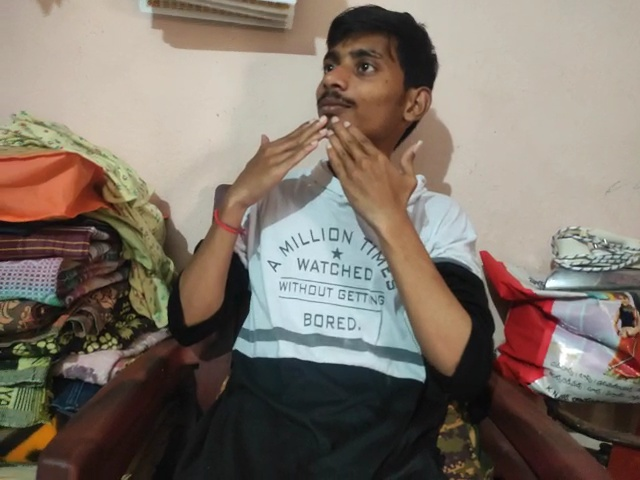thankyou: (222, 113, 427, 218)
